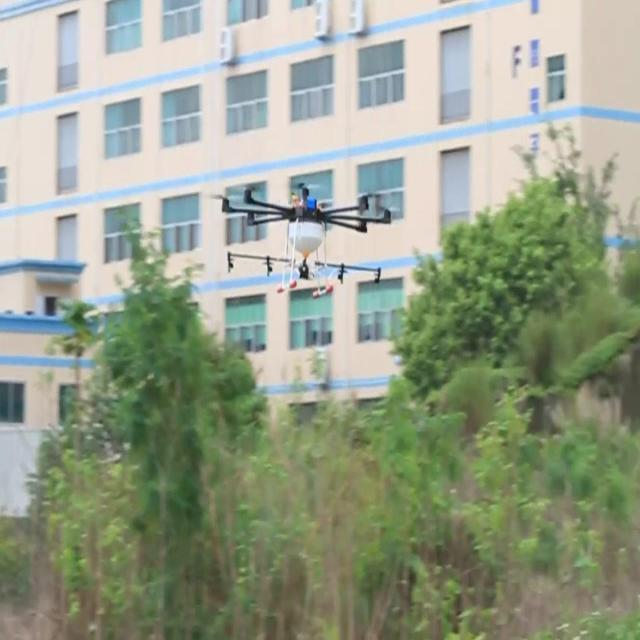drone: (218, 179, 404, 300)
